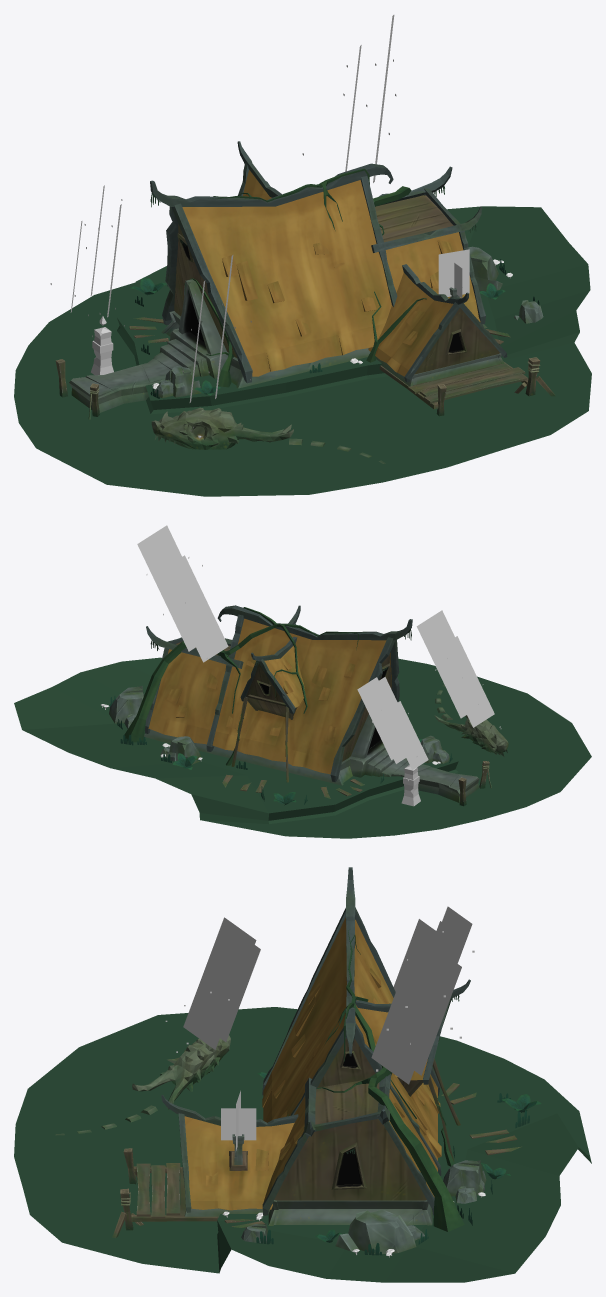
The model's file is forestHouse.fbx.
3 renders of one model, top to bottom at view 1: azimuth 30°, elevation 25°; view 2: azimuth 150°, elevation 25°; view 3: azimuth 270°, elevation 25°, orthographic. The views are drawn at different scales.
Visible parts, largest first — view 1: Cube.003, Cube.001, Cube.004, Cube.000, Cube.010, Cube.015, Cube.013, Cube.009, Light_2.002, smoke, Plane, Cube; view 2: Cube.003, Cube.001, Light_2.002, Cube.004, Cube.000, Cube.009, Cube.013, Cube.015, Plane, Cube.010, Cube; view 3: Cube.003, Cube.001, Cube.004, Light_2.002, Cube.000, Cube.010, Cube.013, Cube.009, Cube.015, Plane, smoke.
Part boxes in pixels (x1,y1,x2,y2): Cube.003: [14, 206, 591, 496]; Cube.001: [182, 170, 480, 376]; Cube.004: [69, 195, 504, 412]; Cube.000: [150, 141, 507, 383]; Cube.010: [55, 317, 555, 419]; Cube.015: [151, 407, 385, 463]; Cube.013: [154, 246, 543, 398]; Cube.009: [184, 168, 426, 387]; Light_2.002: [70, 15, 394, 402]; smoke: [438, 249, 469, 297]; Plane: [130, 163, 539, 398]; Cube: [91, 316, 201, 438]; Cube.003: [14, 657, 591, 838]; Cube.001: [148, 618, 391, 774]; Light_2.002: [137, 525, 494, 769]; Cube.004: [144, 641, 479, 802]; Cube.000: [145, 605, 412, 781]; Cube.009: [124, 607, 370, 765]; Cube.013: [109, 686, 449, 764]; Cube.015: [434, 684, 508, 756]; Plane: [109, 628, 452, 805]; Cube.010: [222, 761, 491, 806]; Cube: [401, 765, 420, 806]; Cube.003: [14, 1007, 591, 1282]; Cube.001: [184, 917, 441, 1210]; Cube.004: [180, 1038, 460, 1225]; Light_2.002: [183, 906, 472, 1084]; Cube.000: [161, 867, 470, 1215]; Cube.010: [112, 1083, 521, 1237]; Cube.013: [241, 1160, 486, 1253]; Cube.009: [287, 929, 464, 1231]; Cube.015: [55, 1035, 230, 1135]; Plane: [256, 995, 541, 1255]; smoke: [221, 1090, 256, 1150].
Bounding box in the file's own units: 2067 × 985 × 1633.
